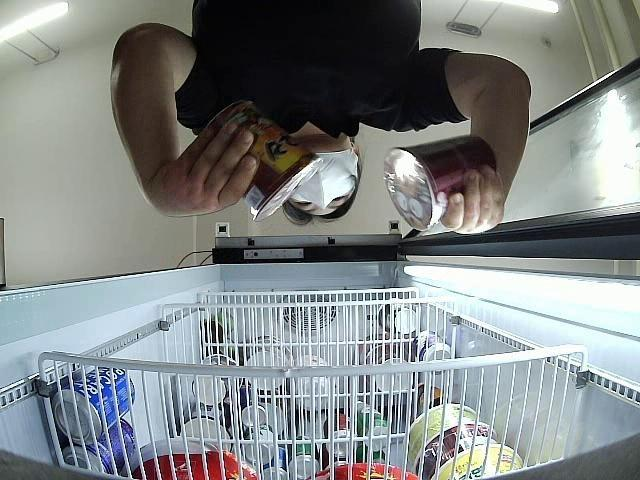06_nuguri_S: (201, 100, 320, 221), (382, 133, 498, 232)
